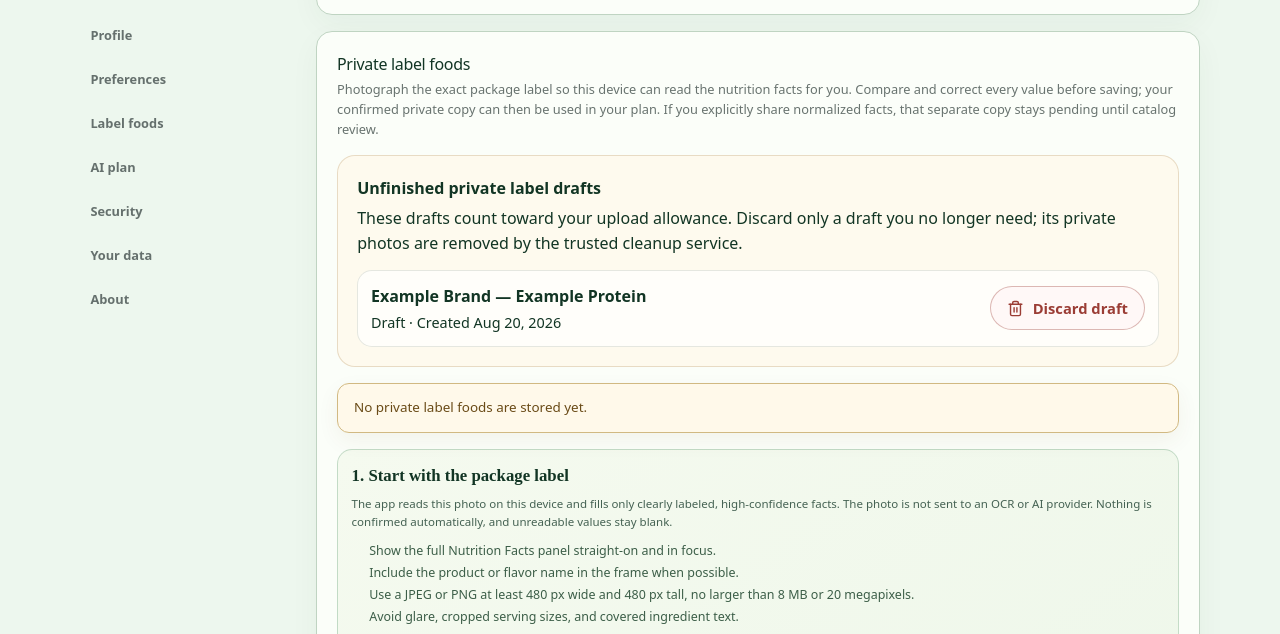
Scenario: SettingsView › keeps a draft listed when a successful discard envelope is incomplete
(page scrolled)
Click the button "Discard draft".
click(1067, 308)  # box [990,286,1145,330]
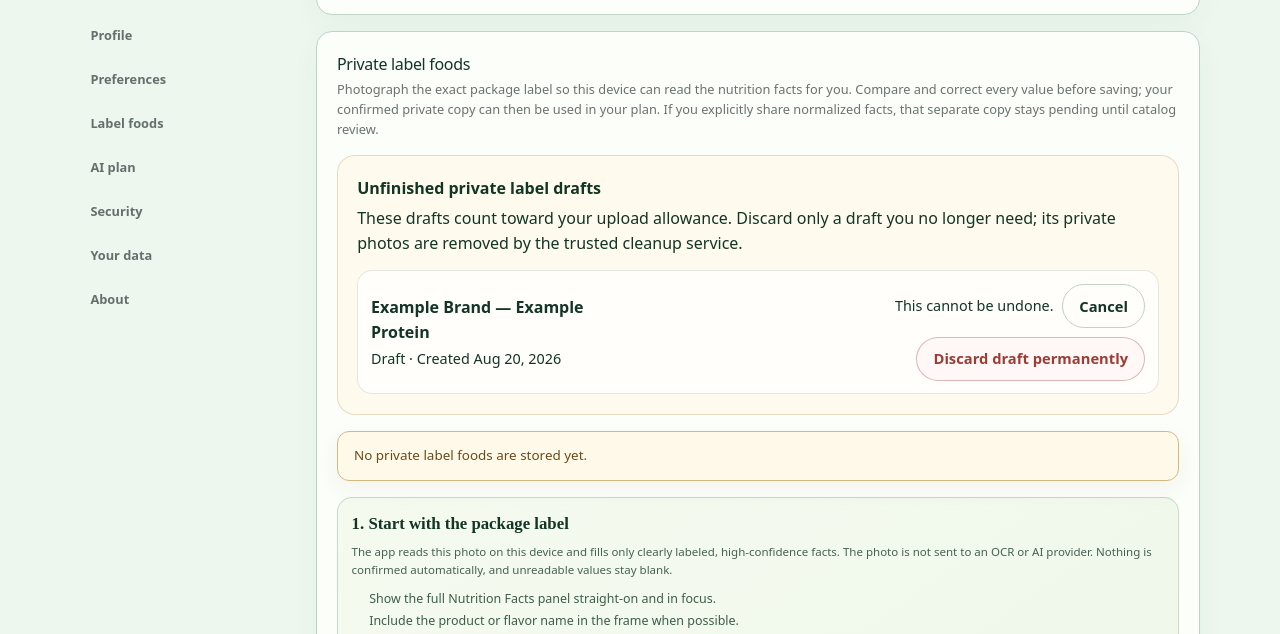
Click the button "Discard draft permanently".
click(1031, 359)  # box [916,337,1145,381]
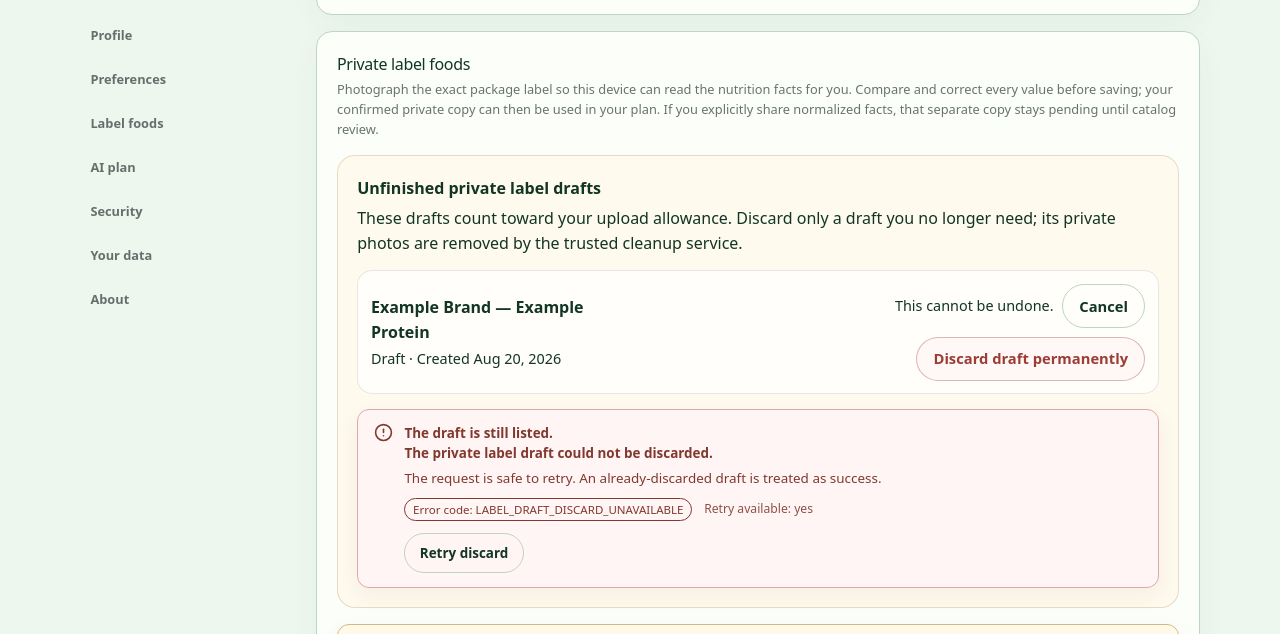
Expected: the text "Example Brand — Example Protein" is shown, [371,296,584,343]
Expected: the message shows "Error code: LABEL_DRAFT_DISCARD_UNAVAILABLE", [357,409,1159,588]
